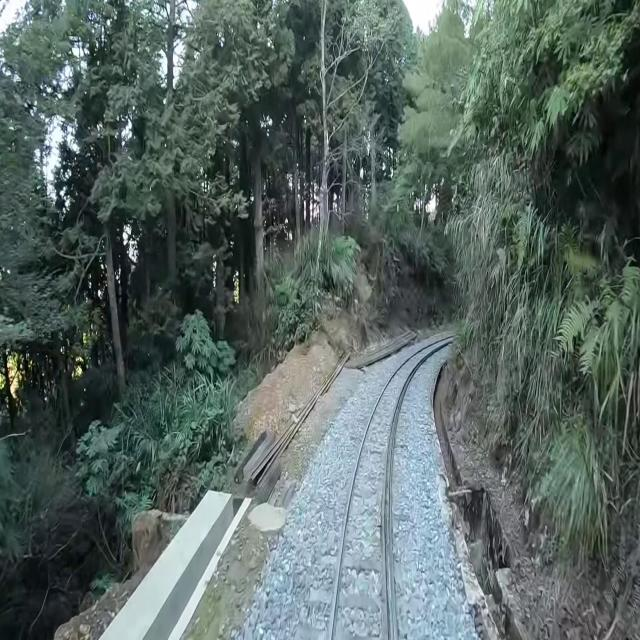rail-track: (333, 349, 427, 639)
